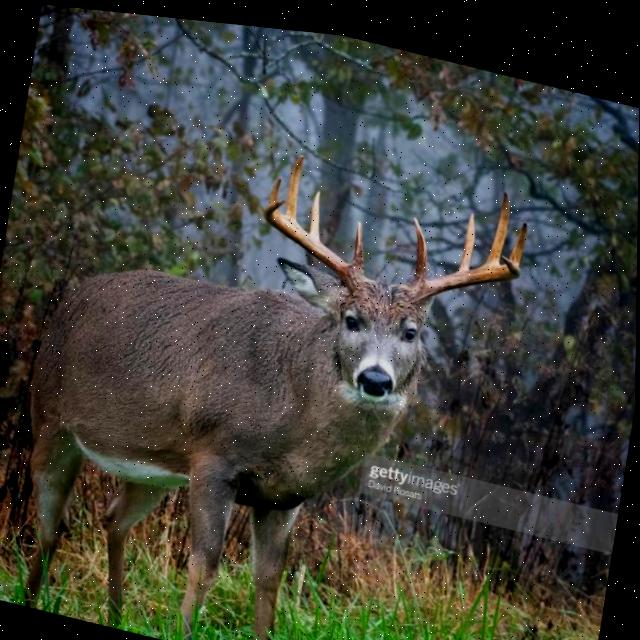L-F: (409, 244, 521, 294)
L-G1: (412, 208, 428, 274)
L-G2: (458, 203, 476, 262)
L-G3: (485, 180, 510, 256)
R-F: (264, 193, 365, 284)
R-G1: (350, 213, 365, 268)
R-G2: (309, 184, 321, 234)
R-G3: (285, 149, 305, 214)
